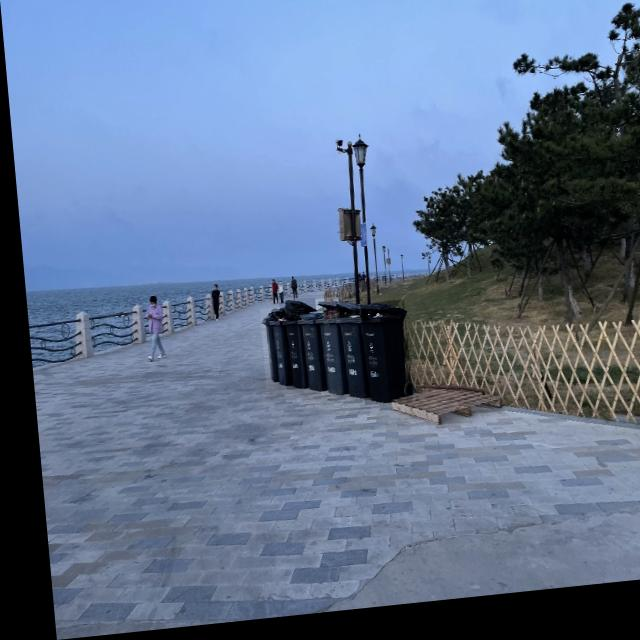garbage_bin: (290, 317, 322, 398)
overflow: (350, 307, 405, 412), (273, 304, 315, 396), (328, 305, 360, 406), (307, 304, 339, 402), (253, 312, 284, 393)
